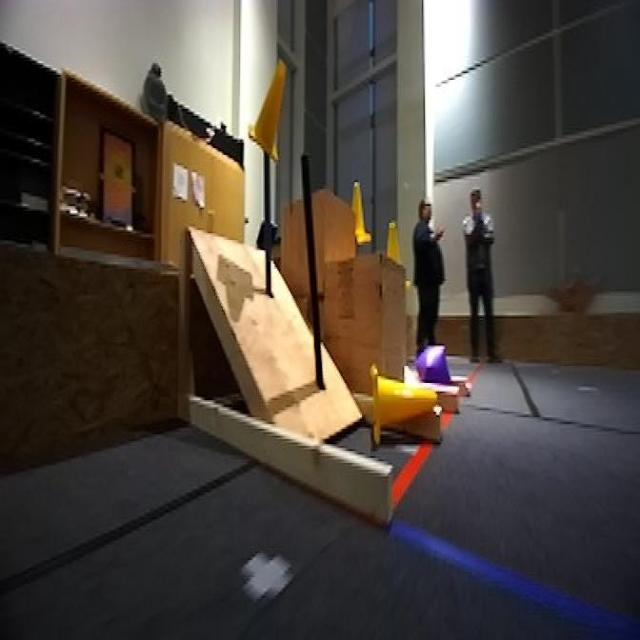frc_cone: (371, 371, 443, 441), (246, 56, 284, 165), (340, 174, 373, 250), (384, 212, 414, 270)
frc_cube: (417, 346, 453, 393)
